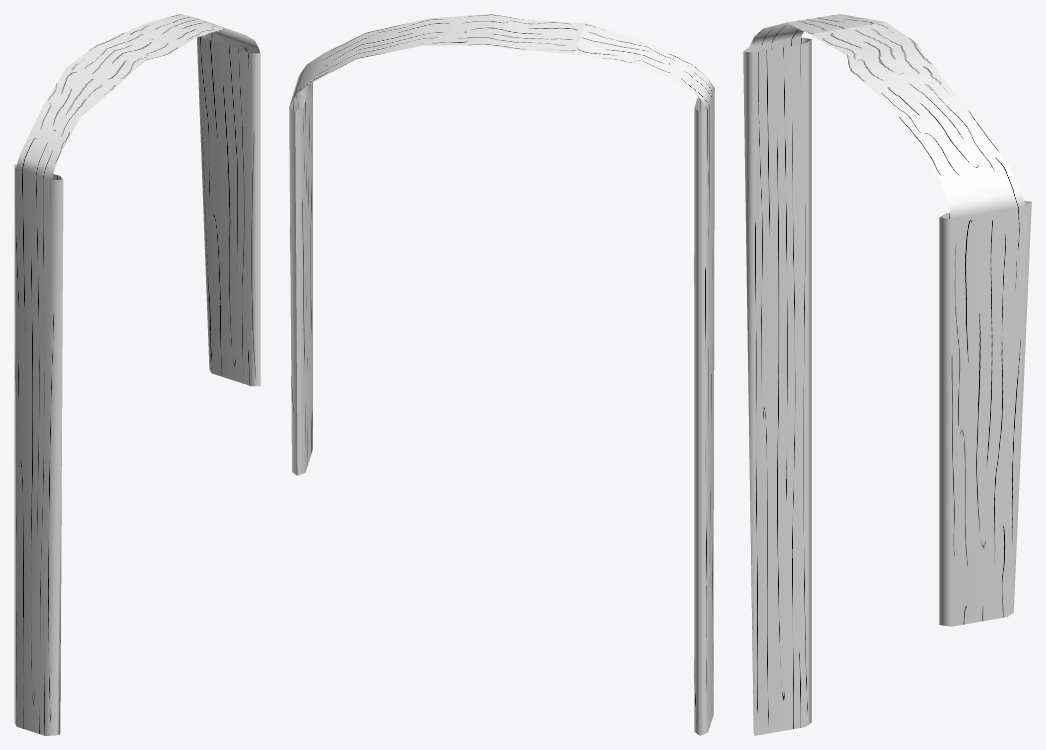
Rendered from waterfall3.fbx.
3 views of the same model, side by side, from view 1: azimuth 30°, elevation 25°; view 2: azimuth 150°, elevation 25°; view 3: azimuth 270°, elevation 25° (orthographic). The views are drawn at different scales.
Visible parts, largest first — view 1: Waterfall; view 2: Waterfall; view 3: Waterfall.
Part boxes in pixels (bbox=[...]): Waterfall: bbox=[14, 14, 260, 735]; Waterfall: bbox=[289, 14, 714, 735]; Waterfall: bbox=[743, 14, 1031, 735].
Bounding box in the file's own units: 500 × 967 × 335.
Materials: 1 (1 with a texture image).
